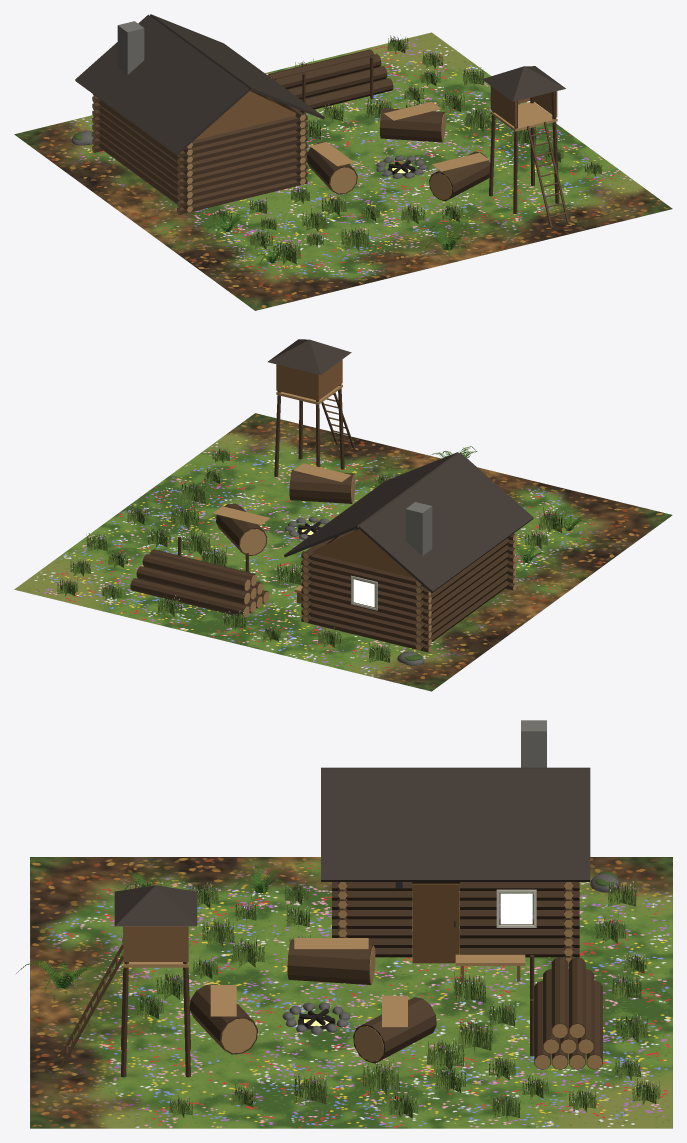
File: les_paseka_srub.glb
The picture shows the model from 3 angles, top to bottom: view 1: azimuth 30°, elevation 25°; view 2: azimuth 150°, elevation 25°; view 3: azimuth 270°, elevation 25°; orthographic projection. The views are drawn at different scales.
Parts seen in each view (by area): view 1: zem, srub, ohniste, posed, klady, kapradi_01, trava_22, trava_25, trava_17; view 2: zem, srub, klady, posed, ohniste, noc; view 3: zem, srub, ohniste, posed, klady, dvere_00, noc, trava_25, trava_20, trava_21, trava_11, kapradi_01 (+6 smaller).
Boxes of the visible parts, x1,y1,x2,y2 form: zem: [14, 32, 672, 310]; srub: [75, 14, 324, 214]; ohniste: [306, 101, 489, 201]; posed: [482, 66, 569, 227]; klady: [267, 49, 393, 113]; kapradi_01: [425, 225, 474, 256]; trava_22: [341, 224, 369, 251]; trava_25: [465, 107, 491, 132]; trava_17: [273, 238, 300, 264]; zem: [14, 413, 672, 691]; srub: [284, 452, 533, 652]; klady: [130, 536, 269, 617]; posed: [268, 339, 354, 476]; ohniste: [213, 463, 355, 555]; noc: [301, 527, 374, 607]; zem: [30, 857, 672, 1128]; srub: [321, 720, 590, 981]; ohniste: [189, 938, 436, 1063]; posed: [59, 885, 197, 1077]; klady: [530, 955, 602, 1069]; dvere_00: [412, 883, 459, 963]; noc: [304, 893, 532, 1026]; trava_25: [362, 1059, 400, 1095]; trava_20: [426, 1038, 464, 1071]; trava_21: [458, 1019, 492, 1052]; trava_11: [293, 1073, 327, 1105]; kapradi_01: [16, 960, 109, 992].
Size of the model in its own units: 14.8 by 4.52 by 15.17.
7 materials, 4 textured.
